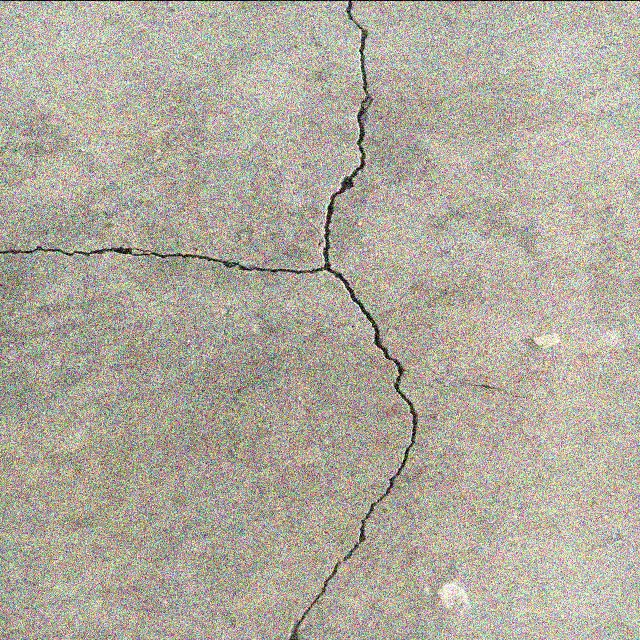SurfaceCrack: (199, 7, 445, 640)
